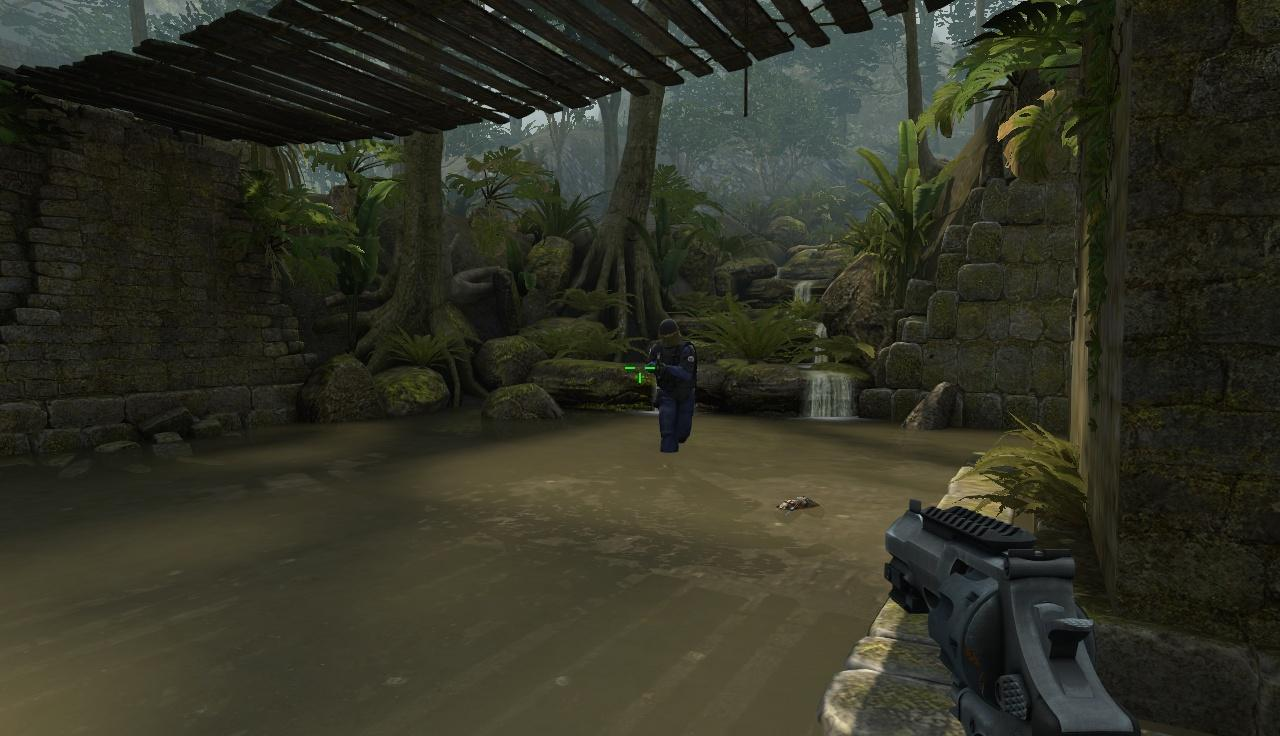ct: (653, 321, 699, 458)
cthead: (654, 320, 679, 349)
pistol: (876, 505, 1143, 736)
